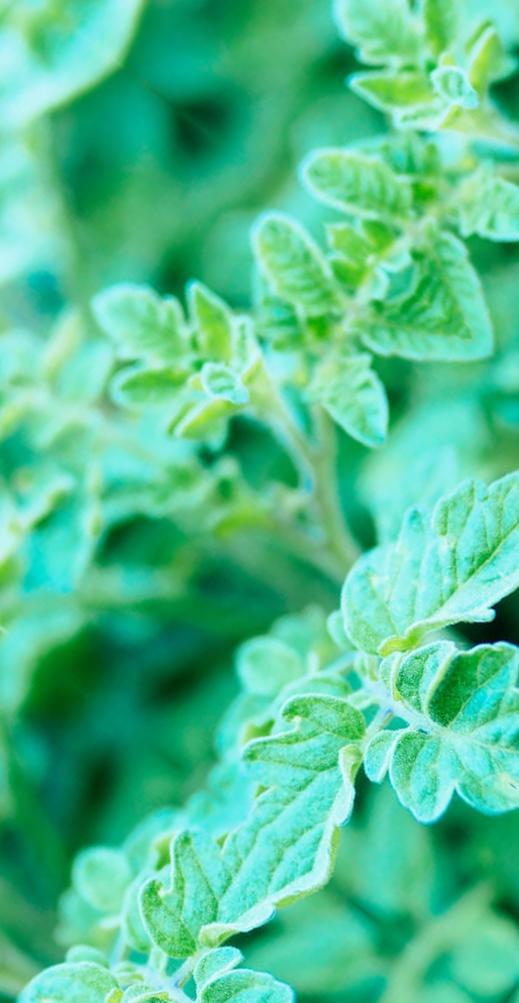Tomato leaf: (180, 619, 481, 912), (304, 410, 519, 729), (325, 561, 519, 912)
